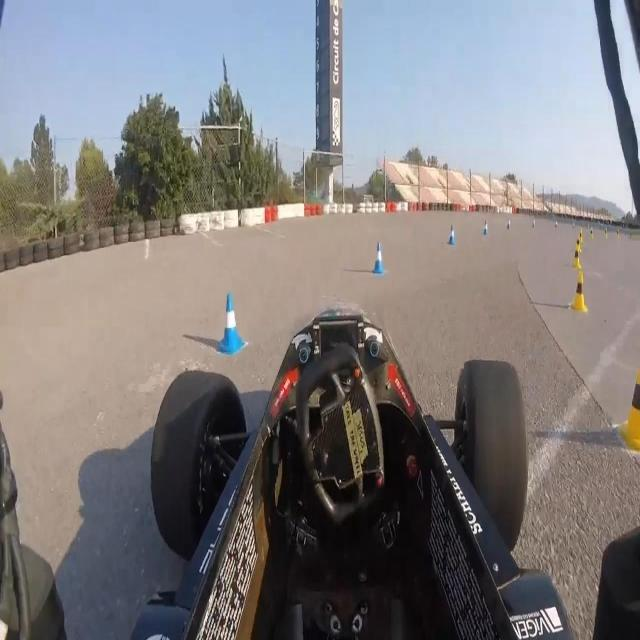blue_cone: (216, 292, 245, 358), (372, 242, 386, 276), (448, 223, 457, 245), (483, 219, 489, 236), (506, 219, 511, 231), (532, 219, 536, 228), (554, 219, 558, 228)
yellow_cone: (618, 369, 640, 452), (571, 268, 589, 312), (572, 247, 582, 271), (578, 228, 584, 246), (576, 237, 582, 252), (590, 227, 594, 240), (604, 228, 608, 240), (616, 228, 620, 240)
